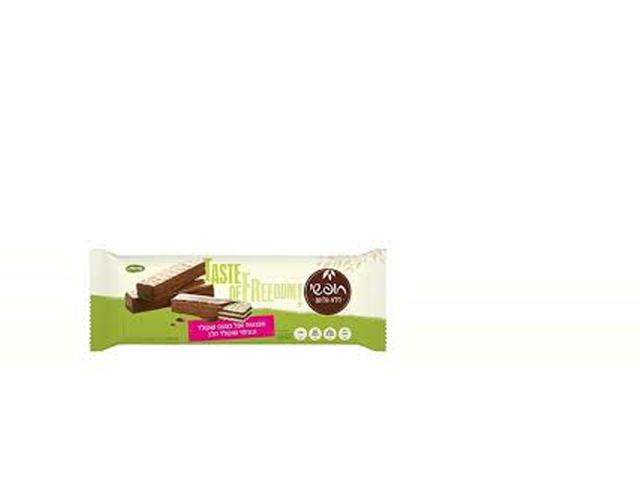chocolate: (82, 239, 384, 362)
